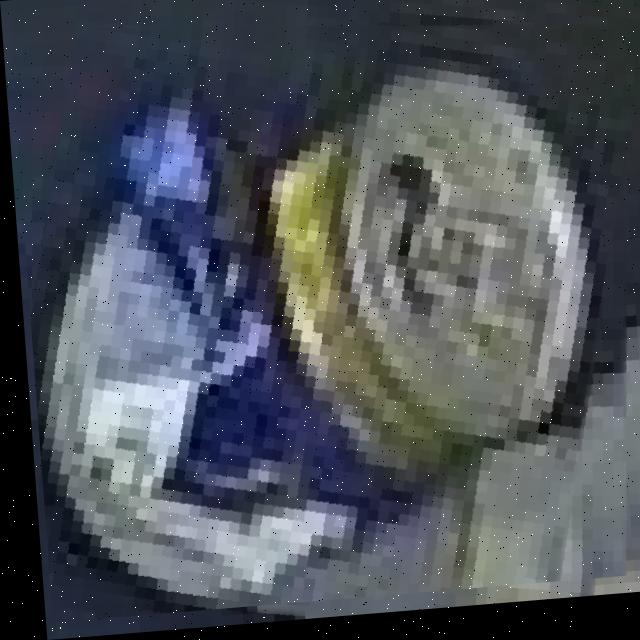can: (28, 25, 625, 614)
